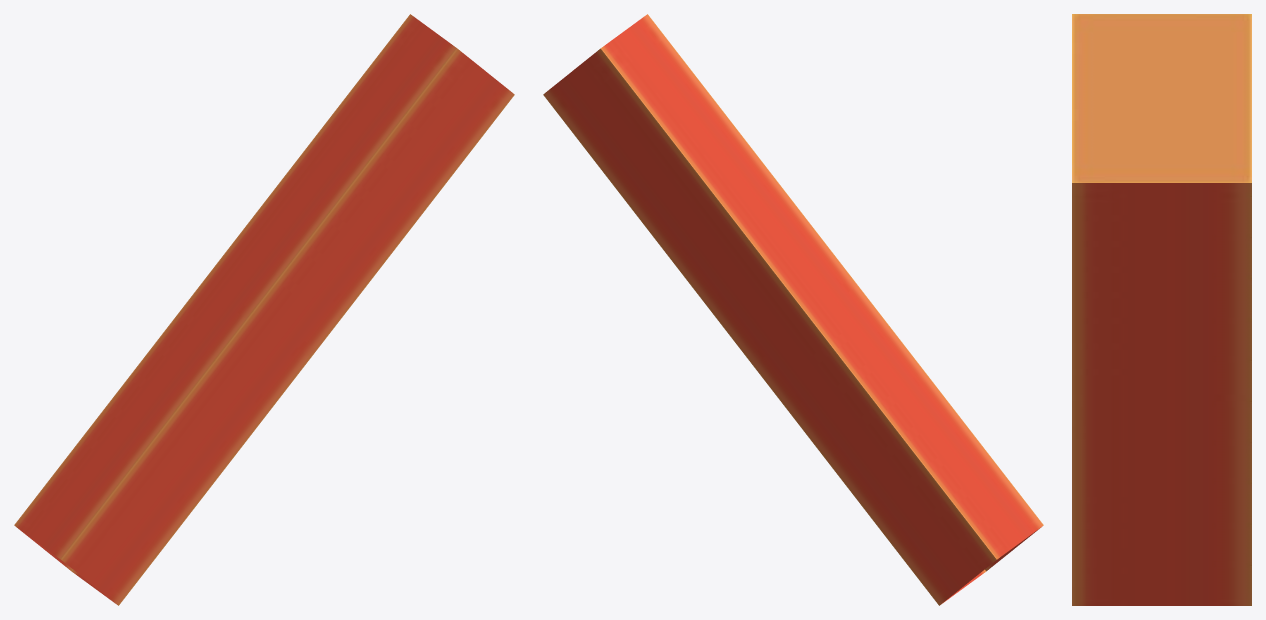
File: brace.glb
The picture shows the model from 3 angles, left to right: view 1: azimuth 30°, elevation 25°; view 2: azimuth 150°, elevation 25°; view 3: azimuth 270°, elevation 25°; orthographic projection. The views are drawn at different scales.
Parts seen in each view (by area): view 1: WoodSupport_2.001; view 2: WoodSupport_2.001; view 3: WoodSupport_2.001.
Part boxes in pixels (x1,y1,x2,y2): WoodSupport_2.001: (14, 14, 514, 605); WoodSupport_2.001: (543, 14, 1043, 605); WoodSupport_2.001: (1072, 14, 1251, 605).
Size of the model in its own units: 0.8357 by 0.8357 by 0.15.
1 material, 1 textured.
